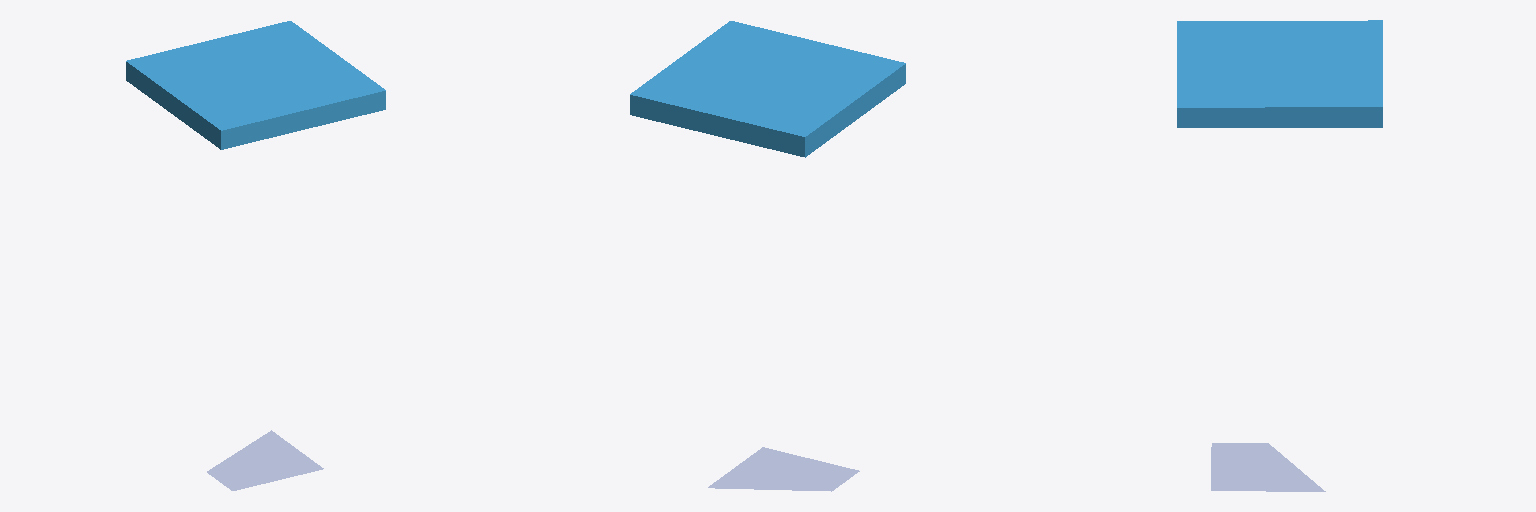
robot.urdf — aras_visual_servo:

<robot
  name="aras_visual_servo">
<gazebo>
  <plugin name="gazebo_ros_control" filename="libgazebo_ros_control.so">
    <robotNamespace>/aras_visual_servo</robotNamespace>
  </plugin>
</gazebo>
  <link
    name="base_link">
    <inertial>
      <origin
        xyz="0.0160498474847556 0.380715448526243 -0.000709642095171104"
        rpy="0 0 0" />
      <mass
        value="1729.3927673525" />
      <inertia
        ixx="475.397369733653"
        ixy="34.5663756406899"
        ixz="-1.79934549289071"
        iyy="1072.78236249213"
        iyz="-1.69210564621586"
        izz="1103.62478080047" />
    </inertial>
    <visual>
      <origin
        xyz="0 0 0"
        rpy="0 0 0" />
      <geometry>
        <mesh
          filename="package://aras_visual_servo_gazebo/meshes/base_link.STL" />
      </geometry>
      <material
        name="">
        <color
          rgba="0.752941176470588 0.752941176470588 0.752941176470588 1" />
      </material>
    </visual>
    <collision>
      <origin
        xyz="0 0 0"
        rpy="0 0 0" />
      <geometry>
        <mesh
          filename="package://aras_visual_servo_gazebo/meshes/base_link.STL" />
      </geometry>
    </collision>
  </link>
  <link
    name="slider">
    <inertial>
      <origin
        xyz="-3.2233E-10 -0.0079955 -0.00255"
        rpy="0 0 0" />
      <mass
        value="1.5957" />
      <inertia
        ixx="0.0042058"
        ixy="-8.1189E-13"
        ixz="1.3549E-07"
        iyy="0.0076559"
        iyz="-2.5549E-05"
        izz="0.0044974" />
    </inertial>
    <visual>
      <origin
        xyz="0 0 0"
        rpy="0 0 0" />
      <geometry>
        <mesh
          filename="package://aras_visual_servo_gazebo/meshes/slider.STL" />
      </geometry>
      <material
        name="">
        <color
          rgba="0.89412 0.91373 0.92941 1" />
      </material>
    </visual>
    <collision>
      <origin
        xyz="0 0 0"
        rpy="0 0 0" />
      <geometry>
        <mesh
          filename="package://aras_visual_servo_gazebo/meshes/slider.STL" />
      </geometry>
    </collision>
  </link>
  <joint
    name="gantry"
    type="prismatic">
    <origin
      xyz="0 0 1.6263"
      rpy="1.5708 -6.123E-17 -1.5708" />
    <parent
      link="base_link" />
    <child
      link="slider" />
    <axis
      xyz="0 0 -1" />
       <dynamics 
        damping="0.8" 
        friction="0.5"/>
    <limit
      lower="-1.5"
      upper="1.5"
      effort="80000"
      velocity="5" />
  </joint>
  <link
    name="link0">
    <inertial>
      <origin
        xyz="-0.03889 7.2007E-06 0.07653"
        rpy="0 0 0" />
      <mass
        value="5.272" />
      <inertia
        ixx="0.021924"
        ixy="-4.5762E-06"
        ixz="0.0018667"
        iyy="0.032682"
        iyz="-7.7909E-07"
        izz="0.030507" />
    </inertial>
    <visual>
      <origin
        xyz="0 0 0"
        rpy="0 0 0" />
      <geometry>
        <mesh
          filename="package://aras_visual_servo_gazebo/meshes/link0.STL" />
      </geometry>
      <material
        name="">
        <color
          rgba="0.79216 0.81961 0.93333 1" />
      </material>
    </visual>
    <collision>
      <origin
        xyz="0 0 0"
        rpy="0 0 0" />
      <geometry>
        <mesh
          filename="package://aras_visual_servo_gazebo/meshes/link0.STL" />
      </geometry>
    </collision>
  </link>
  <joint
    name="J0"
    type="fixed">
    <origin
      xyz="0 -0.02888 0"
      rpy="-1.5708 1.2246E-16 3.1416" />
    <parent
      link="slider" />
    <child
      link="link0" />
    <axis
      xyz="0 0 0" />
  </joint>
  <link
    name="link1">
    <inertial>
      <origin
        xyz="-0.007172 -1.9992E-07 0.080508"
        rpy="0 0 0" />
      <mass
        value="2.2792" />
      <inertia
        ixx="0.0091615"
        ixy="1.5787E-08"
        ixz="0.00018817"
        iyy="0.0096145"
        iyz="6.3703E-09"
        izz="0.0051301" />
    </inertial>
    <visual>
      <origin
        xyz="0 0 0"
        rpy="0 0 0" />
      <geometry>
        <mesh
          filename="package://aras_visual_servo_gazebo/meshes/link1.STL" />
      </geometry>
      <material
        name="">
        <color
          rgba="0.79216 0.81961 0.93333 1" />
      </material>
    </visual>
    <collision>
      <origin
        xyz="0 0 0"
        rpy="0 0 0" />
      <geometry>
        <mesh
          filename="package://aras_visual_servo_gazebo/meshes/link1.STL" />
      </geometry>
    </collision>
  </link>
  <joint
    name="J1"
    type="revolute">
    <origin
      xyz="0 0 0.168"
      rpy="0 0 0" />
    <parent
      link="link0" />
    <child
      link="link1" />
    <axis
      xyz="0 0 1" />
    <dynamics 
        damping="0.7" 
        friction="0.9"/>
    <limit
      lower="-2.0943"
      upper="2.0943"
      effort="50000"
      velocity="5" />
  </joint>
  <link
    name="link2">
    <inertial>
      <origin
        xyz="-0.00045943 -1.1149E-06 0.11501"
        rpy="0 0 0" />
      <mass
        value="3.6544" />
      <inertia
        ixx="0.039615"
        ixy="-1.5177E-09"
        ixz="-7.018E-05"
        iyy="0.02958"
        iyz="5.2465E-08"
        izz="0.015467" />
    </inertial>
    <visual>
      <origin
        xyz="0 0 0"
        rpy="0 0 0" />
      <geometry>
        <mesh
          filename="package://aras_visual_servo_gazebo/meshes/link2.STL" />
      </geometry>
      <material
        name="">
        <color
          rgba="0.79216 0.81961 0.93333 1" />
      </material>
    </visual>
    <collision>
      <origin
        xyz="0 0 0"
        rpy="0 0 0" />
      <geometry>
        <mesh
          filename="package://aras_visual_servo_gazebo/meshes/link2.STL" />
      </geometry>
    </collision>
  </link>
  <joint
    name="J2"
    type="revolute">
    <origin
      xyz="0 0 0.132"
      rpy="0 0 0" />
    <parent
      link="link1" />
    <child
      link="link2" />
    <axis
      xyz="0 1 0" />
    <dynamics 
      damping="0.1" 
      friction="0.9"/>
    <limit
      lower="-2.0943"
      upper="2.0943"
      effort="50000"
      velocity="5" />
  </joint>
  <link
    name="link3">
    <inertial>
      <origin
        xyz="7.5454E-06 -0.0003295 0.069078"
        rpy="0 0 0" />
      <mass
        value="1.6841" />
      <inertia
        ixx="0.0082866"
        ixy="6.2094E-07"
        ixz="-1.3024E-06"
        iyy="0.0076034"
        iyz="-1.2068E-05"
        izz="0.0027866" />
    </inertial>
    <visual>
      <origin
        xyz="0 0 0"
        rpy="0 0 0" />
      <geometry>
        <mesh
          filename="package://aras_visual_servo_gazebo/meshes/link3.STL" />
      </geometry>
      <material
        name="">
        <color
          rgba="0.79216 0.81961 0.93333 1" />
      </material>
    </visual>
    <collision>
      <origin
        xyz="0 0 0"
        rpy="0 0 0" />
      <geometry>
        <mesh
          filename="package://aras_visual_servo_gazebo/meshes/link3.STL" />
      </geometry>
    </collision>
  </link>
  <joint
    name="J3"
    type="revolute">
    <origin
      xyz="0 0 0.25"
      rpy="0 0 0" />
    <parent
      link="link2" />
    <child
      link="link3" />
    <axis
      xyz="0 1 0" />
    <dynamics 
        damping="0.9" 
        friction="0.9"/>
    <limit
      lower="-2.0943"
      upper="2.0943"
      effort="50000"
      velocity="5" />
  </joint>
  <link
    name="link5">
    <inertial>
      <origin
        xyz="6.3435E-09 -6.8497E-10 -0.0052055"
        rpy="0 0 0" />
      <mass
        value="1.32285" />
      <inertia
        ixx="0.00029998"
        ixy="-7.1309E-12"
        ixz="-6.7415E-11"
        iyy="0.00041146"
        iyz="2.4233E-12"
        izz="0.00021741" />
    </inertial>
    <visual>
      <origin
        xyz="0 0 0"
        rpy="0 0 0" />
      <geometry>
        <mesh
          filename="package://aras_visual_servo_gazebo/meshes/link5.STL" />
      </geometry>
      <material
        name="">
        <color
          rgba="0.79216 0.81961 0.93333 1" />
      </material>
    </visual>
    <collision>
      <origin
        xyz="0 0 0"
        rpy="0 0 0" />
      <geometry>
        <mesh
          filename="package://aras_visual_servo_gazebo/meshes/link5.STL" />
      </geometry>
    </collision>
  </link>
  <joint
    name="J5"
    type="revolute">
    <origin
      xyz="0 0 0.16"
      rpy="0 0 3.1416" />
    <parent
      link="link3" />
    <child
      link="link5" />
    <axis
      xyz="0 -1 0" />
    <dynamics 
        damping="0.9" 
        friction="0.9"/>
    <limit
      lower="-2.0943"
      upper="2.0943"
      effort="50000"
      velocity="5" />
  </joint>
  <link
    name="link6">
    <inertial>
      <origin
        xyz="6.7949E-06 2.6973E-17 0.0076492"
        rpy="0 0 0" />
      <mass
        value="0.3641" />
      <inertia
        ixx="0.00031783"
        ixy="-3.1885E-20"
        ixz="-2.882E-08"
        iyy="0.0003178"
        iyz="2.216E-20"
        izz="0.00043046" />
    </inertial>
    <visual>
      <origin
        xyz="0 0 0"
        rpy="0 0 0" />
      <geometry>
        <mesh
          filename="package://aras_visual_servo_gazebo/meshes/link6.STL" />
      </geometry>
      <material
        name="">
        <color
          rgba="0.79216 0.81961 0.93333 1" />
      </material>
    </visual>
    <collision>
      <origin
        xyz="0 0 0"
        rpy="0 0 0" />
      <geometry>
        <mesh
          filename="package://aras_visual_servo_gazebo/meshes/link6.STL" />
      </geometry>
    </collision>
  </link>
  <joint
    name="J6"
    type="revolute">
    <origin
      xyz="0 0 0.0718"
      rpy="0 0 -3.1416" />
    <parent
      link="link5" />
    <child
      link="link6" />
    <axis
      xyz="0 0 1" />
    <dynamics 
        damping="0.1" 
        friction="0.9"/>
    <limit
      lower="-3000"
      upper="3000"
      effort="50000"
      velocity="5" />
 </joint>
 <link name="planar_object">
  <inertial>
      <origin
        xyz="6.7949E-06 2.6973E-17 0.0076492"
        rpy="0 0 0" />
      <mass
        value="0.3641" />
      <inertia
        ixx="0.00031783"
        ixy="-3.1885E-20"
        ixz="-2.882E-08"
        iyy="0.0003178"
        iyz="2.216E-20"
        izz="0.00043046" />
    </inertial>
    <visual>
      <origin
        xyz="-0.02 0 0.03"
        rpy="0 1.57 0" />
      <geometry>
        <mesh
          filename="package://aras_visual_servo_gazebo/meshes/Part1.STL" />
      </geometry>
      <material
        name="">
        <color
          rgba="0.79216 0.81961 0.93333 1" />
      </material>
    </visual>
    <collision>
      <origin
        xyz="0 0 0"
        rpy="0 0 0" />
      <geometry>
        <mesh
          filename="package://aras_visual_servo_gazebo/meshes/link6.STL" />
      </geometry>
    </collision>
    <!--   
    <inertial>
      <origin xyz="0 0 0" /> 
      <mass value="1.0" />
      <inertia  ixx="1.0" ixy="0.0"  ixz="0.0"  iyy="100.0"  iyz="0.0"  izz="1.0" />
    </inertial>
    <visual>
      <material name="black">
        <color rgba="0 0 0 1"/>
      </material>
      <origin xyz="0 0 0"/>
      <geometry>
        <box size="0.05 0.001 0.05" />
      </geometry>
    </visual>
    <collision>
      <origin xyz="0 0 0"/>
      <geometry>
        <box size="0.05 0.001 0.05" />
      </geometry>
    </collision> -->
  </link>
  
  <!-- <link name="planar_object_2">
    <inertial>
      <origin xyz="0 0 0" /> 
      <mass value="1.0" />
      <inertia  ixx="1.0" ixy="0.0"  ixz="0.0"  iyy="100.0"  iyz="0.0"  izz="1.0" />
    </inertial>
    <visual>
      <material name="black">
        <color rgba="0 0 0 1"/>
      </material>
      <origin xyz="0.025 0.0005 0.005"/>
      <geometry>
        <box size="0.025 0.0005 0.025" />
      </geometry>
    </visual>
    <collision>
      <origin xyz="0.025 0.0005 0.005"/>
      <geometry>
        <box size="0.025 0.0005 0.025" />
      </geometry>
    </collision>
  </link> -->

  <gazebo reference="planar_object">
    <material>Gazebo/Black</material>
  </gazebo>
  
  <gazebo reference="planar_object_2">
    <material>Gazebo/Black</material>
  </gazebo>

  <joint
    name="J01"
    type="fixed">
    <origin
      xyz="0 0 0.59"
      rpy="1.5708 -6.123E-17 -1.5708" />
    <parent
      link="base_link" />
    <child
      link="planar_object" />
    <axis
      xyz="0 0 0" />
       <dynamics 
        damping="0.1" 
        friction="0.9"/>
    <limit
      lower="-1.5"
      upper="1.5"
      effort="30"
      velocity="20" />
  </joint>
<!--   <joint
    name="J02"
    type="fixed">
    <origin
      xyz="0 0 0.59"
      rpy="1.5708 -6.123E-17 -1.5708" />
    <parent
      link="base_link" />
    <child
      link="planar_object_2" />
    <axis
      xyz="0 0 0" />
       <dynamics 
        damping="0.1" 
        friction="0.9"/>
    <limit
      lower="-1.5"
      upper="1.5"
      effort="30"
      velocity="20" />
  </joint> -->
  <!-- Camera -->
  <joint name="camera_joint" type="fixed">
    <axis xyz="0 0 0" />
    <origin xyz="0 0 0.0334" rpy="3.14 -1.57 0"/>
    <parent link="link6"/>
    <child link="camera_link"/>
  </joint>
 
  <link name="camera_link">
    <collision>
      <origin xyz="0 0 0" rpy="0 0 0"/>
      <geometry>
    <box size="0.01 0.09 0.09"/>
      </geometry>
    </collision>
 
    <visual>
      <origin xyz="0 0 0" rpy="0 0 0"/>
      <geometry>
        <box size="0.01 0.09 0.09 "/>
      </geometry>
      <material name="red"/>
    </visual>
 
    <inertial>
      <mass value="0.1" />
      <origin xyz="0 0 0" rpy="0 0 0"/>
      <inertia ixx="1e-6" ixy="0" ixz="0" iyy="1e-6" iyz="0" izz="1e-6" />
    </inertial>
  </link>
  <transmission name="gantry">
      <type>transmission_interface/SimpleTransmission</type>
    <actuator name="gantry_motor">
    </actuator>
    <joint name="gantry">
      <hardwareInterface>EffortJointInterface</hardwareInterface>
    </joint>
    <mechanicalReduction>50.0</mechanicalReduction>
      <motorTorqueConstant>1.0</motorTorqueConstant>
  </transmission>

<gazebo reference="gantry">
    <erp>0.1</erp>
    <stopKd value="100000000.0" />
    <stopKp value="100000000.0" />
    <fudgeFactor value="0.1" />
 </gazebo>

   <transmission name="J1">
      <type>transmission_interface/SimpleTransmission</type>
    <actuator name="motor1">
    </actuator>
    <joint name="J1">
      <hardwareInterface>EffortJointInterface</hardwareInterface>
    </joint>
    <mechanicalReduction>100.0</mechanicalReduction>
      <motorTorqueConstant>1.0</motorTorqueConstant>
  </transmission>

<gazebo reference="J1">
    <erp>0.1</erp>
    <stopKd value="100000000.0" />
    <stopKp value="100000000.0" />
    <fudgeFactor value="0.1" />
 </gazebo>

    <transmission name="J2">
      <type>transmission_interface/SimpleTransmission</type>
    <actuator name="motor2">
    </actuator>
    <joint name="J2">
      <hardwareInterface>EffortJointInterface</hardwareInterface>
    </joint>
    <mechanicalReduction>100.0</mechanicalReduction>
      <motorTorqueConstant>1.0</motorTorqueConstant>
  </transmission>

<gazebo reference="J2">
    <erp>0.1</erp>
    <stopKd value="100000000.0" />
    <stopKp value="100000000.0" />
    <fudgeFactor value="0.1" />
 </gazebo>

 <transmission name="J3">
      <type>transmission_interface/SimpleTransmission</type>
    <actuator name="motor3">
    </actuator>
    <joint name="J3">
      <hardwareInterface>EffortJointInterface</hardwareInterface>
    </joint>
    <mechanicalReduction>10.0</mechanicalReduction>
      <motorTorqueConstant>1.0</motorTorqueConstant>
  </transmission>

<gazebo reference="J3">
    <erp>0.1</erp>
    <stopKd value="100000000.0" />
    <stopKp value="100000000.0" />
    <fudgeFactor value="0.1" />
 </gazebo>

  <transmission name="J5">
      <type>transmission_interface/SimpleTransmission</type>
    <actuator name="motor5">
    </actuator>
    <joint name="J5">
      <hardwareInterface>EffortJointInterface</hardwareInterface>
    </joint>
    <mechanicalReduction>10.0</mechanicalReduction>
      <motorTorqueConstant>1.0</motorTorqueConstant>
  </transmission>

<gazebo reference="J5">
    <erp>0.1</erp>
    <stopKd value="100000000.0" />
    <stopKp value="100000000.0" />
    <fudgeFactor value="0.1" />
 </gazebo>

 <transmission name="J6">
      <type>transmission_interface/SimpleTransmission</type>
    <actuator name="motor6">
    </actuator>
    <joint name="J6">
      <hardwareInterface>EffortJointInterface</hardwareInterface>
    </joint>
    <mechanicalReduction>10.0</mechanicalReduction>
      <motorTorqueConstant>1.0</motorTorqueConstant>
  </transmission>

<gazebo reference="J6">
    <erp>0.1</erp>
    <stopKd value="100000000.0" />
    <stopKp value="100000000.0" />
    <fudgeFactor value="0.1" />
 </gazebo>

  <gazebo reference="base_link">
    <mu1>100</mu1>
    <mu2>100</mu2>

  </gazebo>
  <gazebo reference="slider">
    <mu1>100</mu1>
    <mu2>100</mu2>
   
  </gazebo>
  <gazebo reference="camera_link">
    <sensor type="camera" name="camera1">
      <update_rate>30.0</update_rate>
      <camera name="head">
        <horizontal_fov>1.41</horizontal_fov>
        <image>
          <width>320</width>
          <height>240</height>
          <format>R8G8B8</format>
        </image>
       
      </camera>
      <plugin name="camera_controller" filename="libgazebo_ros_camera.so">
        <alwaysOn>true</alwaysOn>
        <updateRate>30.0</updateRate>
        <cameraName>labrob/camera</cameraName>
        <imageTopicName>image_raw</imageTopicName>
        <cameraInfoTopicName>camera_info</cameraInfoTopicName>
        <frameName>camera_link</frameName>
        <hackBaseline>0</hackBaseline>
      <CxPrime>162.4058</CxPrime>
      <Cx>162.4058</Cx>
      <Cy>127.1973</Cy>
      <!-- image_width / (2*tan(hfov_radian /2)) -->
      <!-- 320 for wide and 772.55 format narrow stereo camera -->
      <focal_length>195.05</focal_length>
        <hackBaseline>0.0</hackBaseline>
        <distortionK1>-0.33060</distortionK1>
        <distortionK2>0.1170</distortionK2>
        <distortionK3>0.0</distortionK3>
        <distortionT1>0.0</distortionT1>
        <distortionT2>0.0</distortionT2>
      </plugin>
    </sensor>
  </gazebo>
</robot>

--- What the picture shows (computed from the rendered views, not written in the file) ---
3 views of the same robot in one strip: view 1: azimuth 30°, elevation 25°; view 2: azimuth 150°, elevation 25°; view 3: azimuth 270°, elevation 25° (orthographic).
Model aras_visual_servo with 10 links and 9 joints (5 revolute, 1 prismatic, 3 fixed), rooted at base_link, posed all joints at 0.
Links seen in each view (by area): view 1: camera_link, planar_object; view 2: camera_link, planar_object; view 3: camera_link, planar_object.
Link boxes in pixels (x1,y1,x2,y2): camera_link: (126,21,385,149); planar_object: (207,430,323,490); camera_link: (630,21,905,157); planar_object: (708,447,859,491); camera_link: (1177,20,1382,127); planar_object: (1211,443,1325,491).
Size in the robot's own frame: 0.0901 by 0.0902 by 0.1973 metres.
1 mesh visuals loaded from 9 distinct referenced files (1 binary STL); not drawn: 8 (reference not matched to a file when rendering).